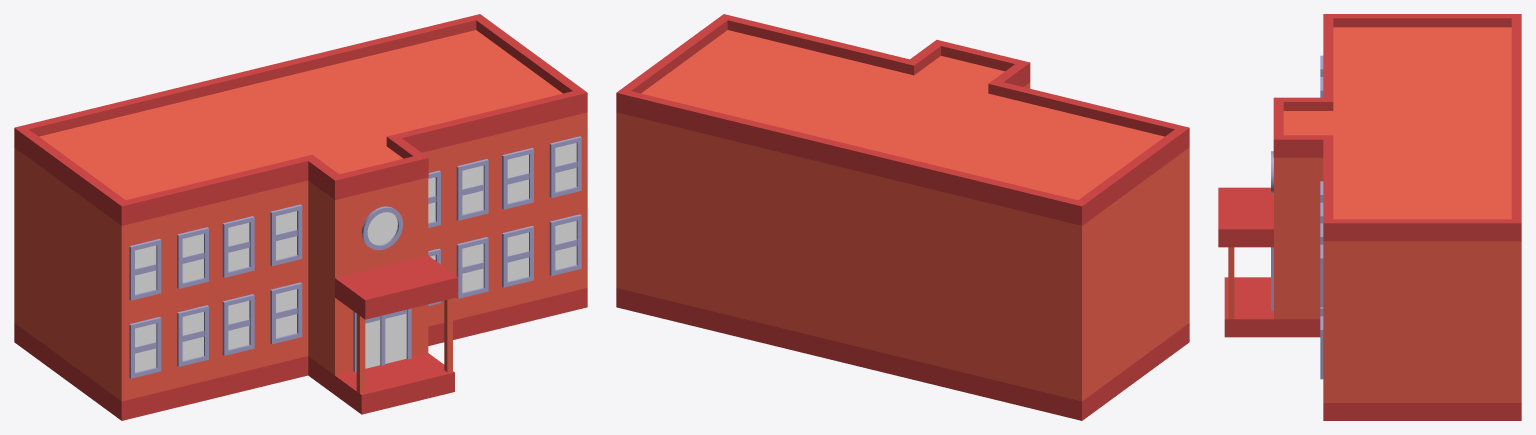
File: Building-2.fbx
3 views of the same model, side by side, from view 1: azimuth 30°, elevation 25°; view 2: azimuth 150°, elevation 25°; view 3: azimuth 270°, elevation 25° (orthographic). The views are drawn at different scales.
Parts seen in each view (by area): view 1: mergedBlocks; view 2: mergedBlocks; view 3: mergedBlocks.
Part boxes in pixels (x1,y1,x2,y2): mergedBlocks: (14, 14, 587, 420); mergedBlocks: (616, 14, 1189, 420); mergedBlocks: (1218, 14, 1521, 420).
Bounding box in the file's own units: 50.01 × 22 × 30.6.
